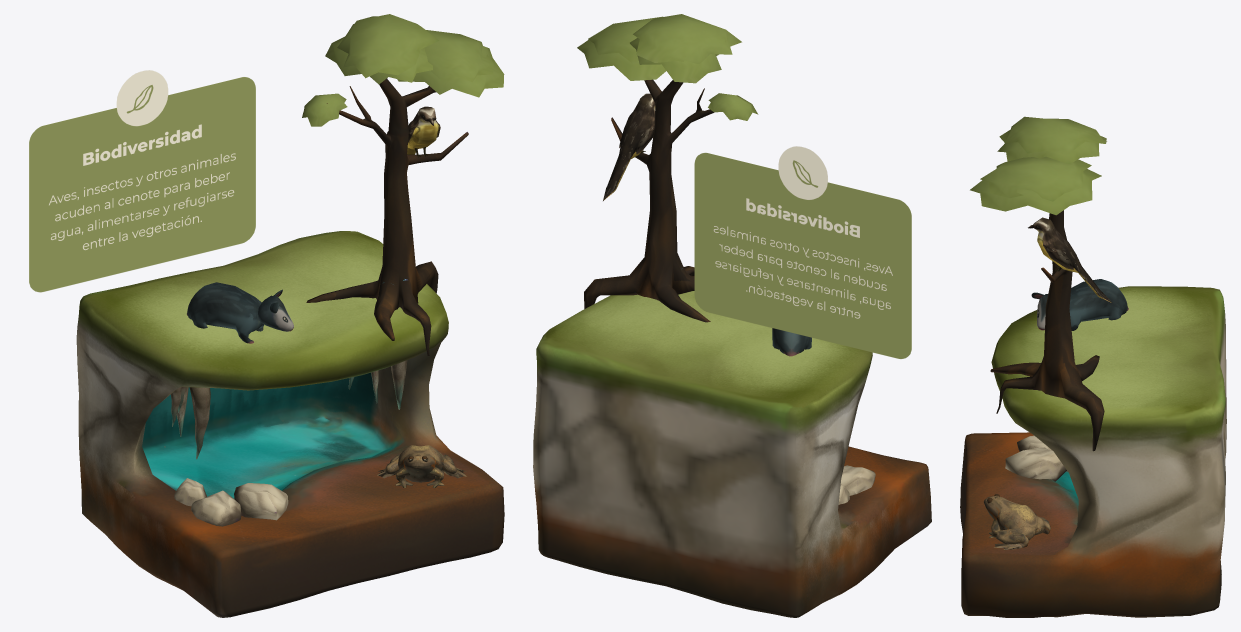
File: biodiversidad-1.glb
The picture shows the model from 3 angles, left to right: view 1: azimuth 30°, elevation 25°; view 2: azimuth 150°, elevation 25°; view 3: azimuth 270°, elevation 25°; orthographic projection. The views are drawn at different scales.
Visible parts, largest first — view 1: Plane.077; view 2: Plane.077; view 3: Plane.077.
Boxes of the visible parts, bbox=[...] form: Plane.077: bbox=[29, 14, 504, 617]; Plane.077: bbox=[533, 14, 931, 617]; Plane.077: bbox=[960, 116, 1226, 617].
Size of the model in its own units: 0.5236 by 0.61 by 0.3136.
Materials: 2 (2 with a texture image).
